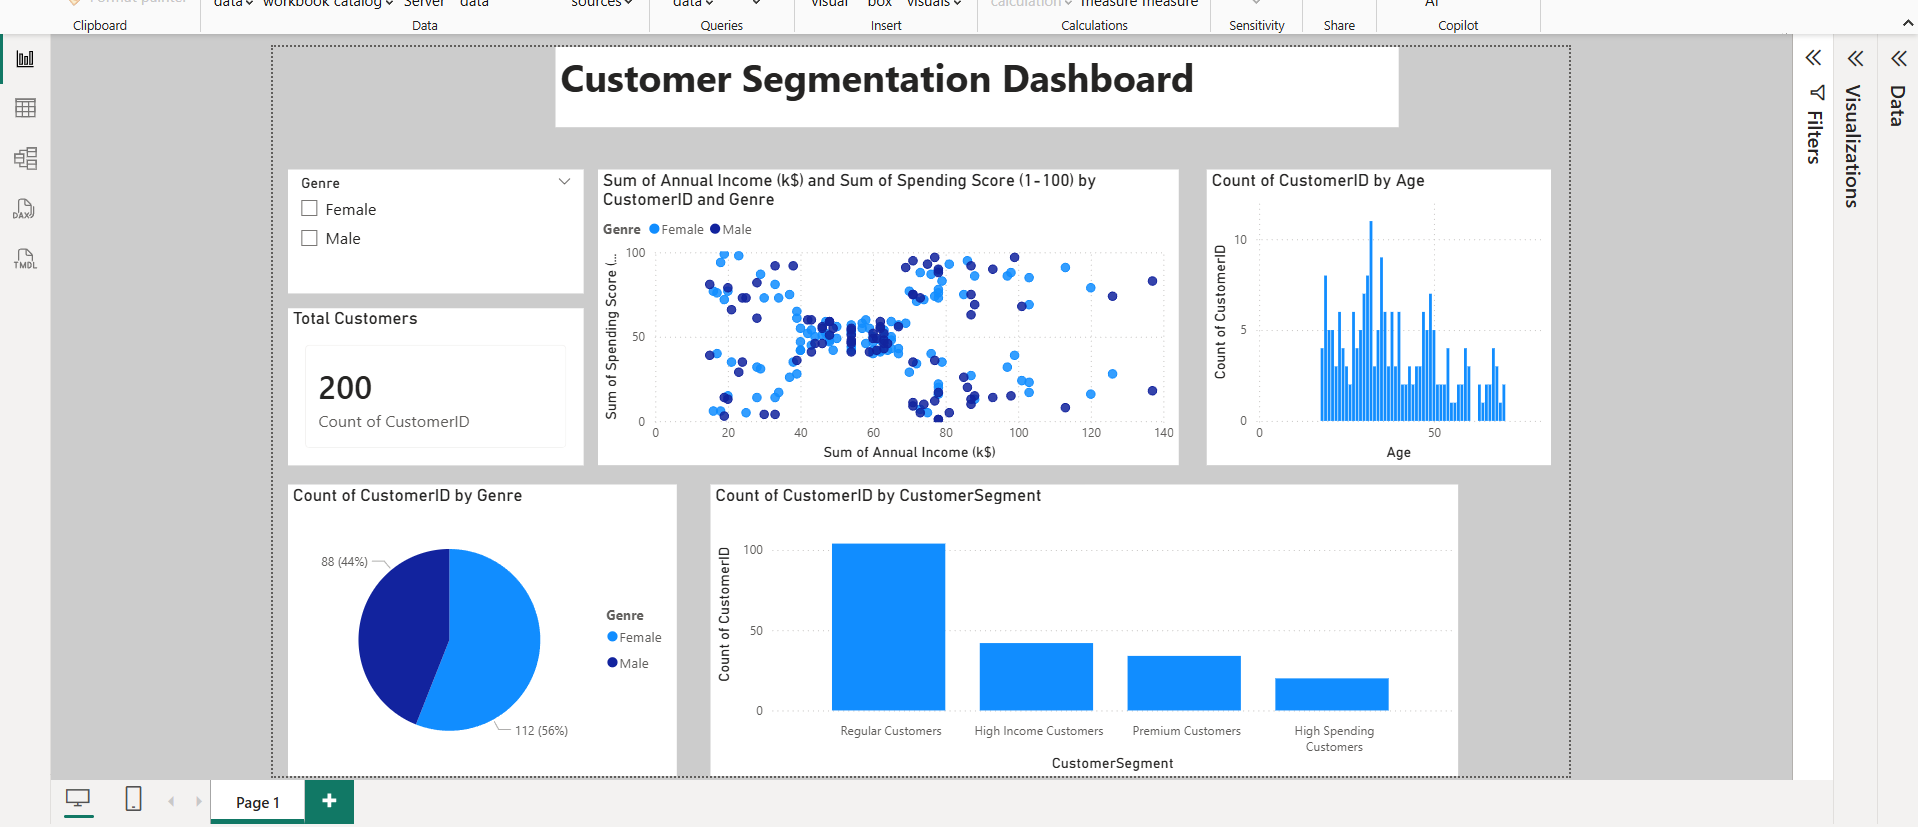

This screenshot's page, from the dashboard's own definition file:
{"tool":"powerbi","page":{"name":"Page 1","canvas":[1280,720],"ordinal":0},"visuals":[{"type":"textbox","box":[278.6,0,832.9,79.6],"z":0},{"type":"cardVisual","title":"Total Customers","fields":{"Data":["CountNonNull(Mall_Customers.CustomerID)"]},"box":[14.7,258,292.3,155.3],"z":1000},{"type":"pieChart","fields":{"Category":["Mall_Customers.Genre"],"Y":["CountNonNull(Mall_Customers.CustomerID)"]},"box":[15.1,432.2,384.2,288.2],"z":2000},{"type":"clusteredColumnChart","fields":{"Category":["Mall_Customers.Age"],"Y":["CountNonNull(Mall_Customers.CustomerID)"]},"box":[922.1,120.8,340.3,292.3],"z":3000},{"type":"scatterChart","fields":{"X":["Sum(Mall_Customers.Annual Income (k$))"],"Y":["Sum(Mall_Customers.Spending Score (1-100))"],"Series":["Mall_Customers.Genre"],"Category":["Mall_Customers.CustomerID"]},"box":[321.1,120.8,573.6,292.3],"z":4000},{"type":"clusteredColumnChart","fields":{"Category":["Mall_Customers.CustomerSegment"],"Y":["CountNonNull(Mall_Customers.CustomerID)"]},"box":[432.2,432.2,738.3,288.2],"z":4001},{"type":"slicer","fields":{"Values":["Mall_Customers.Genre"]},"box":[14.7,121.1,292.3,122.3],"z":4002}]}

Visuals, with their boxes on the page's 1280x720 design canvas (x1, y1, x2, y2). These are canvas units, not pixel positions in the 1918x827 screenshot, which may show the page scaled, cropped or inside an application window:
textbox: <region>279, 0, 1112, 80</region>
"Total Customers" cardVisual: <region>15, 258, 307, 413</region>
pieChart - Mall_Customers.Genre x CountNonNull(Mall_Customers.CustomerID): <region>15, 432, 399, 720</region>
clusteredColumnChart - Mall_Customers.Age x CountNonNull(Mall_Customers.CustomerID): <region>922, 121, 1262, 413</region>
scatterChart - Sum(Mall_Customers.Annual Income (k$)) x Sum(Mall_Customers.Spending Score (1-100)): <region>321, 121, 895, 413</region>
clusteredColumnChart - Mall_Customers.CustomerSegment x CountNonNull(Mall_Customers.CustomerID): <region>432, 432, 1170, 720</region>
slicer - Mall_Customers.Genre: <region>15, 121, 307, 243</region>
